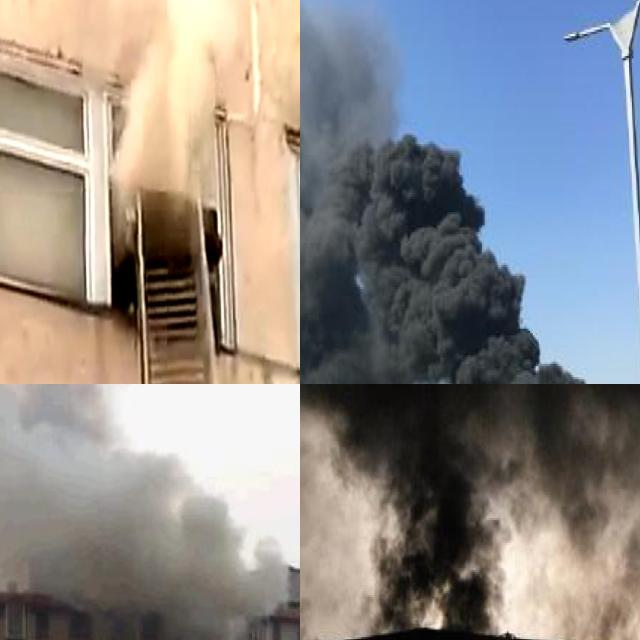smoke: (300, 0, 602, 384), (300, 384, 640, 640), (0, 384, 288, 640), (110, 0, 284, 250)
